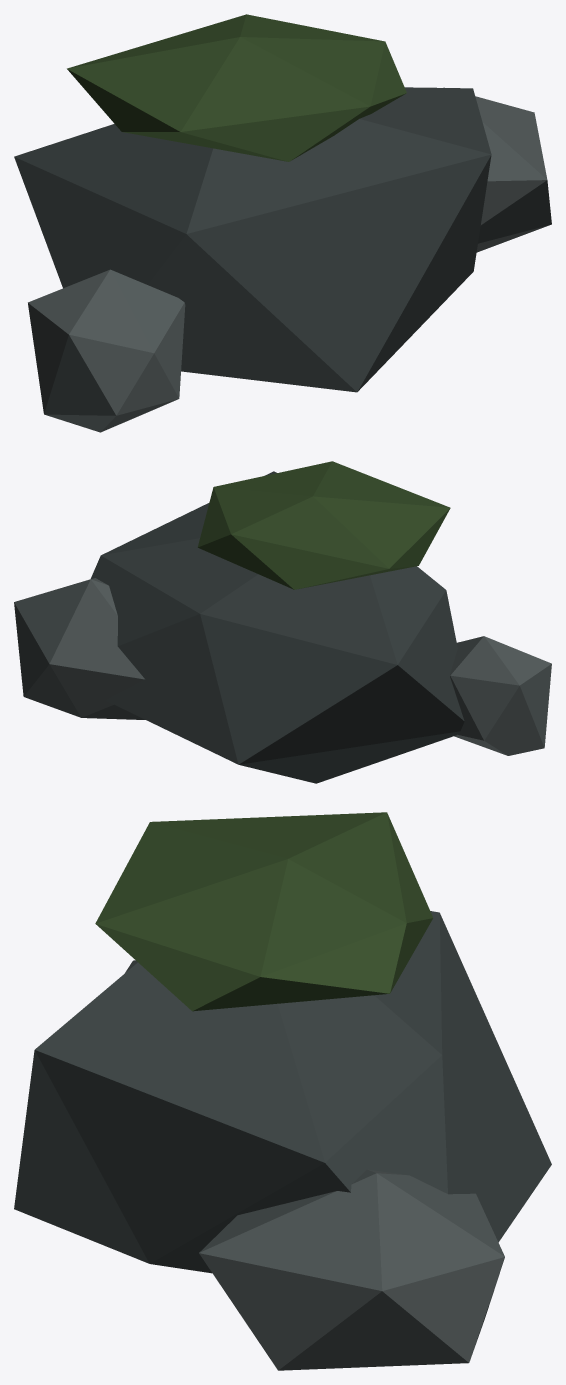
The model's file is decor_rock_big.glb.
3 views of the same model, one above another, from view 1: azimuth 30°, elevation 25°; view 2: azimuth 150°, elevation 25°; view 3: azimuth 270°, elevation 25° (orthographic). The views are drawn at different scales.
Visible parts, largest first — view 1: decor_rock_big; view 2: decor_rock_big; view 3: decor_rock_big.
Part boxes in pixels (x1,y1,x2,y2): decor_rock_big: (14,14,551,432); decor_rock_big: (14,461,551,783); decor_rock_big: (14,812,551,1370).
Bounding box in the file's own units: 2.46 × 1.39 × 1.6.
